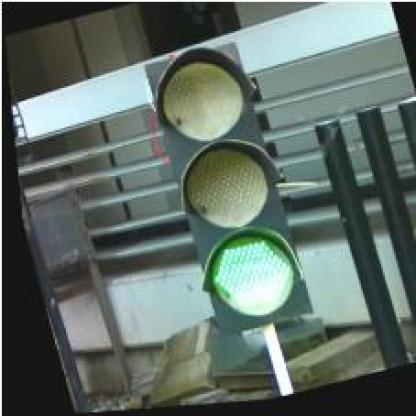green: (137, 39, 310, 342)
